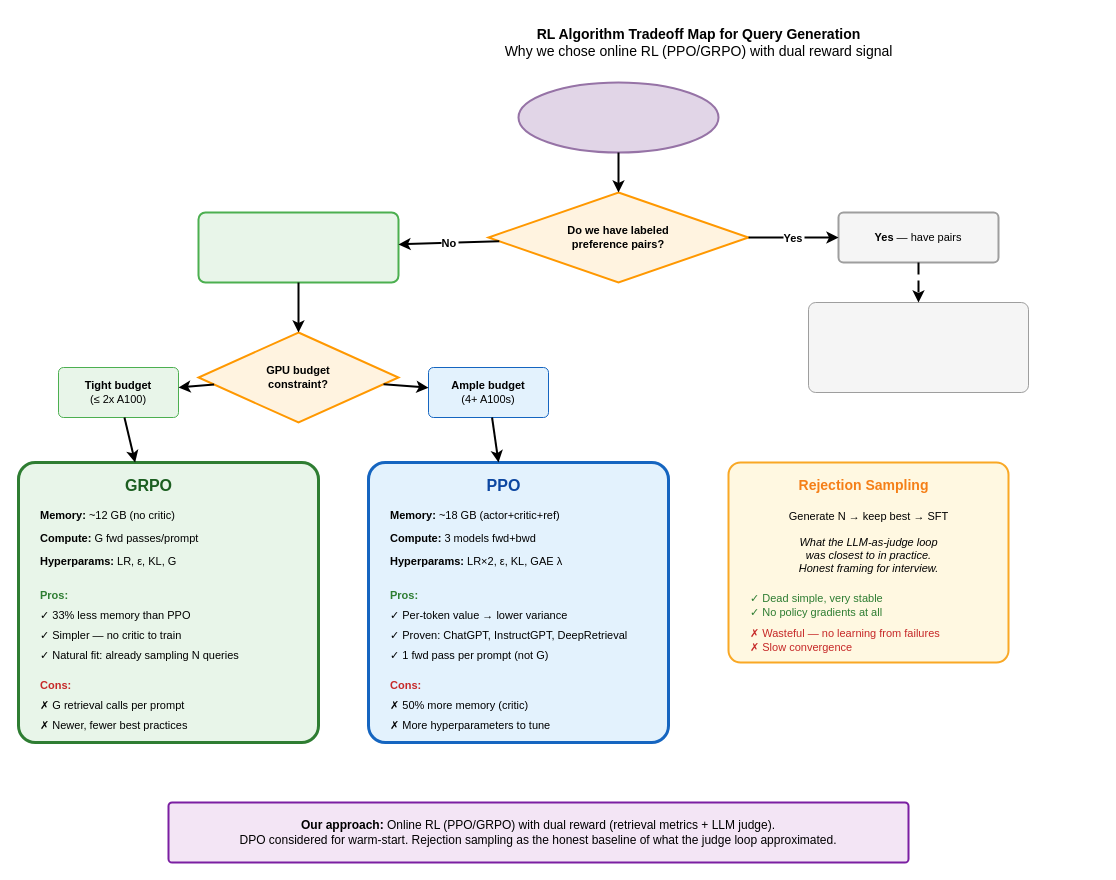
Image size: 1116x880. Some labels were removed from this diagram. The box of each missing label's shape, as (x1, y1, x2, y2) in pixels:
DPO Fast, stable, cheap BUT: offline, no exploration ➜ Use as warm-start only: (808, 302, 1028, 392)
No — no labeled pairs, but we have a retrieval system + LLM judge: (197, 211, 399, 283)
Train Llama 3.2 3B to generate queries: (517, 81, 719, 153)
